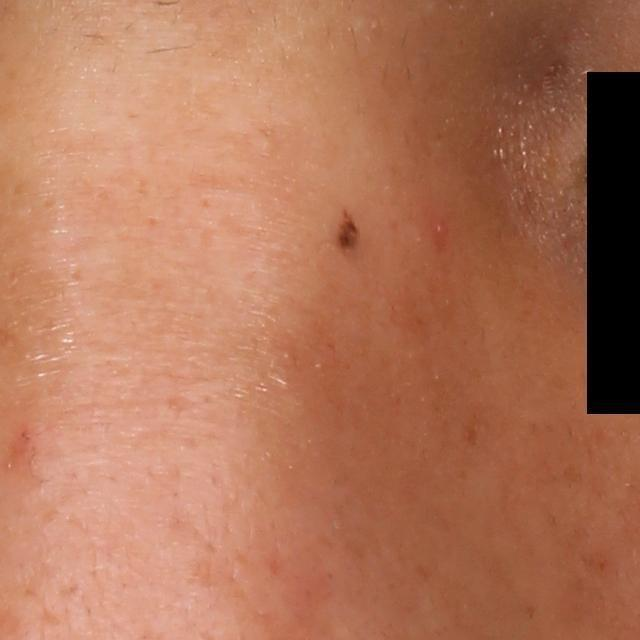nevus: (331, 202, 361, 259)
